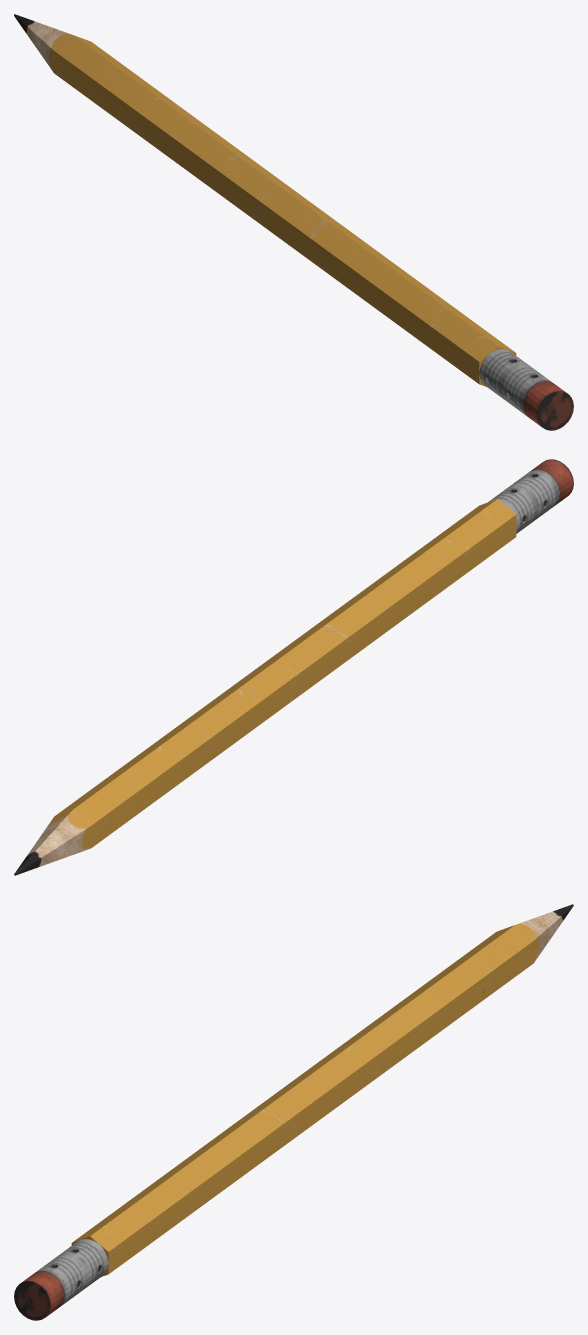
The picture shows the model from 3 angles, top to bottom: view 1: azimuth 30°, elevation 25°; view 2: azimuth 150°, elevation 25°; view 3: azimuth 330°, elevation 25°; orthographic projection.
Parts seen in each view (by area): view 1: Lowpoly; view 2: Lowpoly; view 3: Lowpoly.
Part boxes in pixels (x1,y1,x2,y2): Lowpoly: (14, 14, 573, 430); Lowpoly: (14, 459, 573, 875); Lowpoly: (14, 904, 573, 1320).
Size of the model in its own units: 0.00719 by 0.00832 by 0.1804.
Materials: 1 (1 with a texture image).
